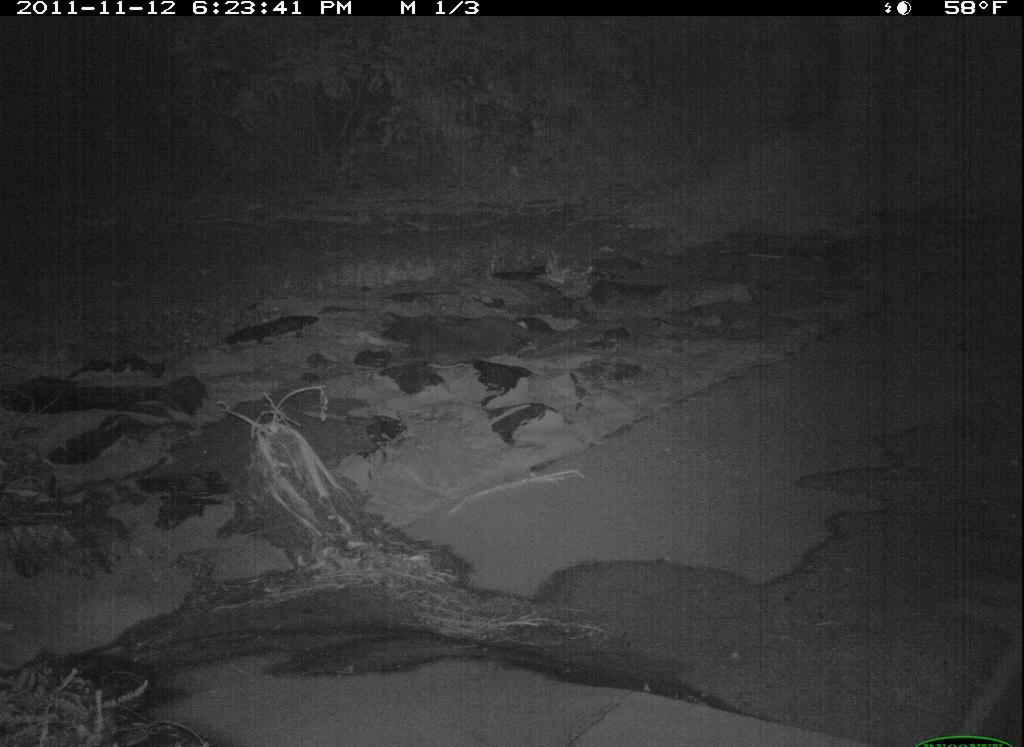cat: (388, 306, 570, 369)
